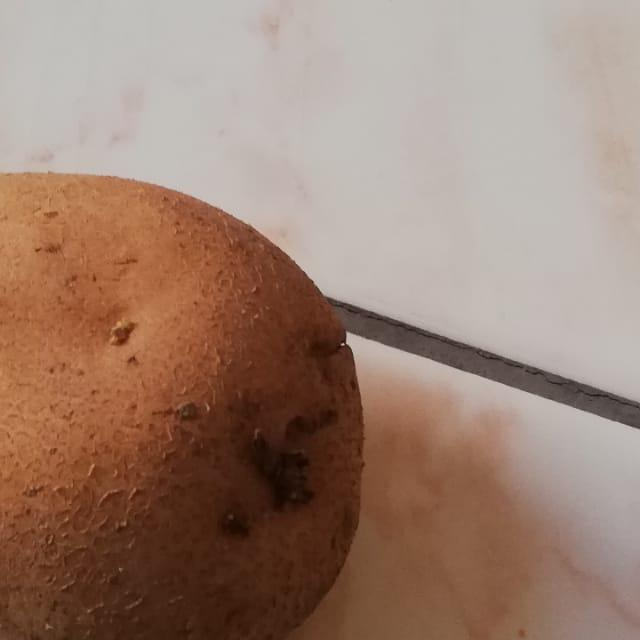potato: (0, 146, 375, 640)
